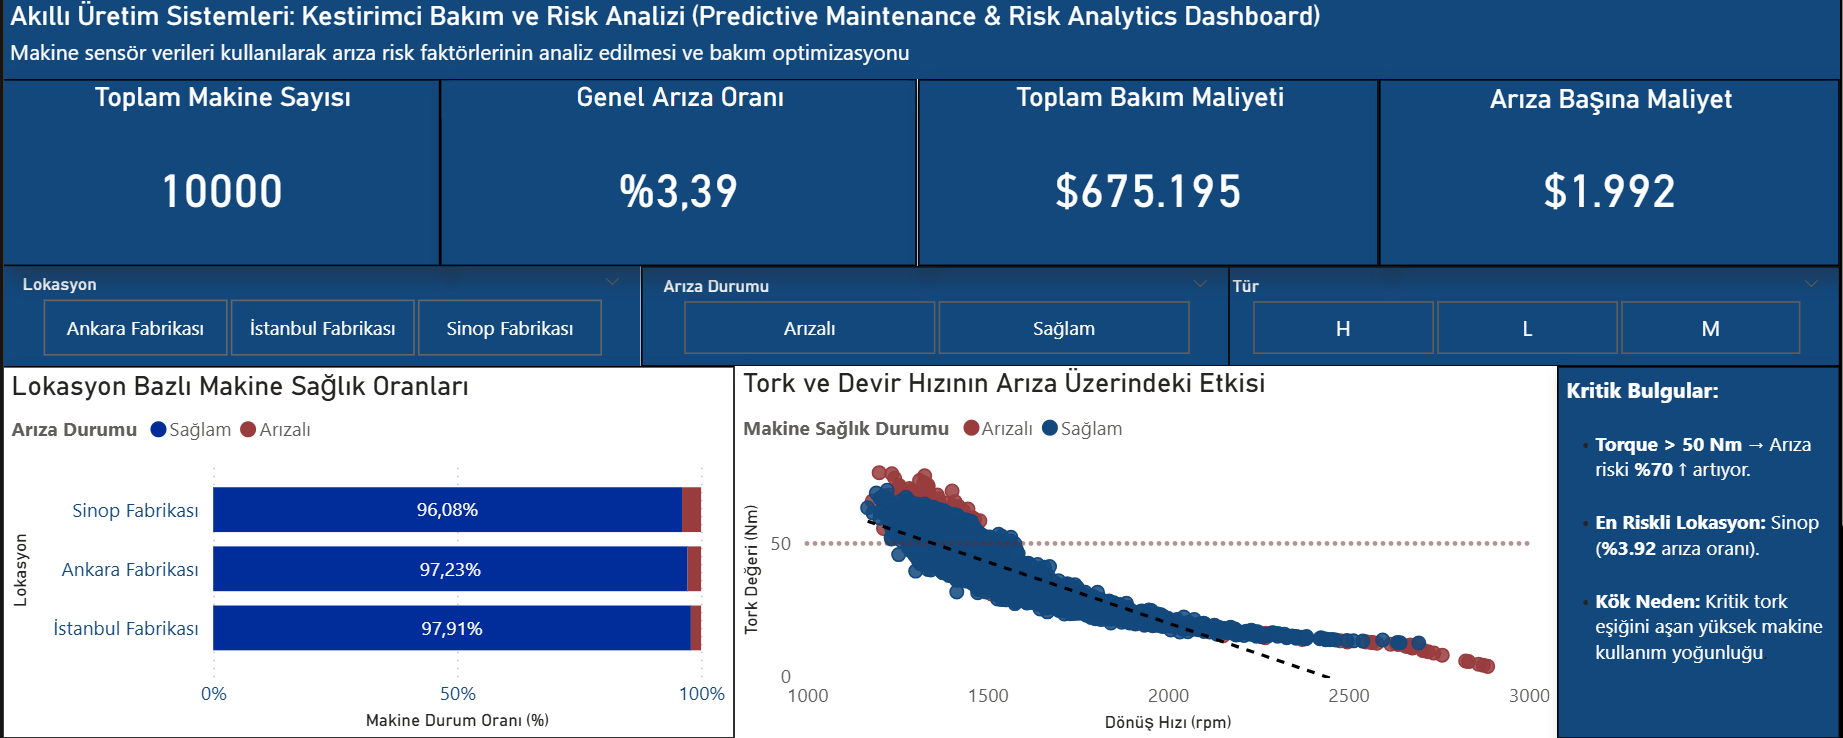

The dashboard page shown, as its layout file describes it:
{"tool":"powerbi","page":{"name":"1. sayfa","canvas":[1280,720],"ordinal":0},"visuals":[{"type":"card","title":"Toplam Makine Sayısı","fields":{"Values":["CountNonNull(New_Notebook_2026_03_16_15_31_16 (2).Type)"]},"box":[65.3,49.9,273.9,117],"z":0,"group":"g1"},{"type":"card","title":"Genel Arıza Oranı","fields":{"Values":["New_Notebook_2026_03_16_15_31_16 (2).Arıza Oranı %"]},"box":[339.2,49.9,298.3,117],"z":1000,"group":"g1"},{"type":"card","title":"Toplam Bakım Maliyeti","fields":{"Values":["Sum(New_Notebook_2026_03_16_15_31_16 (2).Maintenance_Cost_Per_Hour)"]},"box":[637.5,49.9,288.4,117],"z":2000,"group":"g1"},{"type":"hundredPercentStackedBarChart","title":"Lokasyon Bazlı Makine Sağlık Oranları","fields":{"Category":["New_Notebook_2026_03_16_15_31_16 (2).Location"],"Y":["CountNonNull(New_Notebook_2026_03_16_15_31_16 (2).Machine failure)"],"Series":["New_Notebook_2026_03_16_15_31_16 (2).Arıza Durumu"]},"box":[65.3,229.4,457.9,233],"z":3000,"group":"g1"},{"type":"scatterChart","title":"Tork ve Devir Hızının Arıza Üzerindeki Etkisi","fields":{"X":["New_Notebook_2026_03_16_15_31_16 (2).Rotational speed [rpm]"],"Y":["New_Notebook_2026_03_16_15_31_16 (2).Torque [Nm]"],"Series":["New_Notebook_2026_03_16_15_31_16 (2).Arıza Durumu"]},"box":[523.2,229.4,514.2,233],"z":4000,"group":"g1"},{"type":"actionButton","box":[0,0,100,40],"z":5000},{"type":"slicer","title":"Lokasyon","fields":{"Values":["New_Notebook_2026_03_16_15_31_16 (2).Location"]},"box":[65.3,166.9,399,62.6],"z":6000},{"type":"slicer","fields":{"Values":["New_Notebook_2026_03_16_15_31_16 (2).Type"]},"box":[819.7,166.9,394.5,62.6],"z":7000},{"type":"slicer","fields":{"Values":["New_Notebook_2026_03_16_15_31_16 (2).Arıza Durumu"]},"box":[464.3,166.9,368.2,62.6],"z":8000},{"type":"textbox","box":[1037.4,229.4,176.8,233],"z":9000,"group":"g1"},{"type":"textbox","title":"Akıllı Üretim Sistemleri: Kestirimci Bakım ve Risk Analizi (Predictive Maintenance & Risk Analytics Dashboard)","box":[65.3,0,1148.9,49.9],"z":10000},{"type":"card","title":"Arıza Başına Maliyet","fields":{"Values":["New_Notebook_2026_03_16_15_31_16 (2).Arıza Başına Maliyet"]},"box":[925.9,49.9,288.4,117],"z":11000,"group":"g1"},{"type":"group","id":"g1","title":"Grup 1","box":[65.3,49.9,1148.9,412.6],"z":11001}]}

Visuals, with their boxes on the page's 1280x720 design canvas (x1, y1, x2, y2). These are canvas units, not pixel positions in the 1843x738 screenshot, which may show the page scaled, cropped or inside an application window:
"Toplam Makine Sayısı" card: box(65, 50, 339, 167)
"Genel Arıza Oranı" card: box(339, 50, 638, 167)
"Toplam Bakım Maliyeti" card: box(638, 50, 926, 167)
"Lokasyon Bazlı Makine Sağlık Oranları" hundredPercentStackedBarChart: box(65, 229, 523, 462)
"Tork ve Devir Hızının Arıza Üzerindeki Etkisi" scatterChart: box(523, 229, 1037, 462)
actionButton: box(0, 0, 100, 40)
"Lokasyon" slicer: box(65, 167, 464, 230)
slicer - New_Notebook_2026_03_16_15_31_16 (2).Type: box(820, 167, 1214, 230)
slicer - New_Notebook_2026_03_16_15_31_16 (2).Arıza Durumu: box(464, 167, 832, 230)
textbox: box(1037, 229, 1214, 462)
"Akıllı Üretim Sistemleri: Kestirimci Bakım ve Risk Analizi (Predictive Maintenance & Risk Analytics Dashboard)" textbox: box(65, 0, 1214, 50)
"Arıza Başına Maliyet" card: box(926, 50, 1214, 167)
"Grup 1" group: box(65, 50, 1214, 462)
